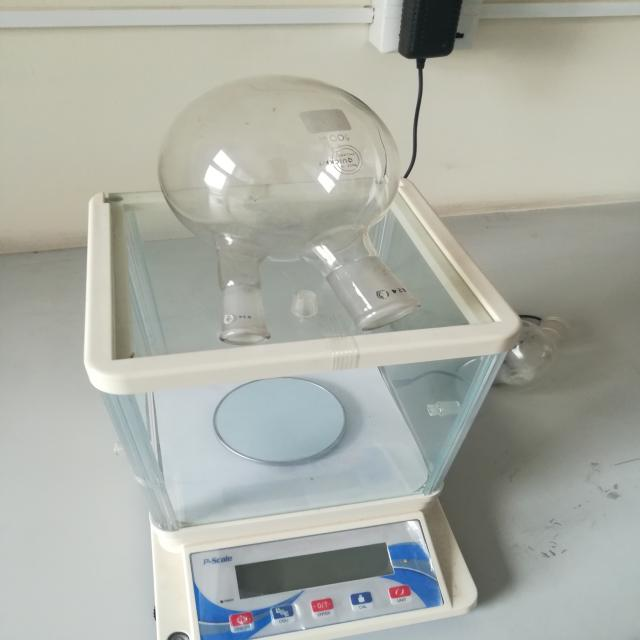Round_Bottom_Flask_Borosilicate_Glass_2_Neck: (82, 34, 464, 376)
